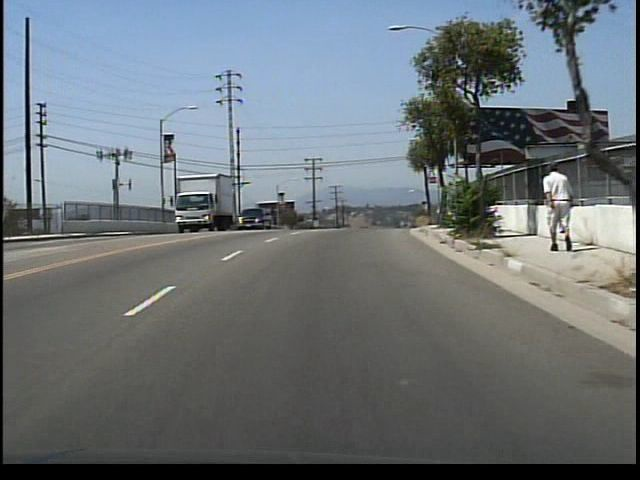person: (538, 158, 574, 254)
